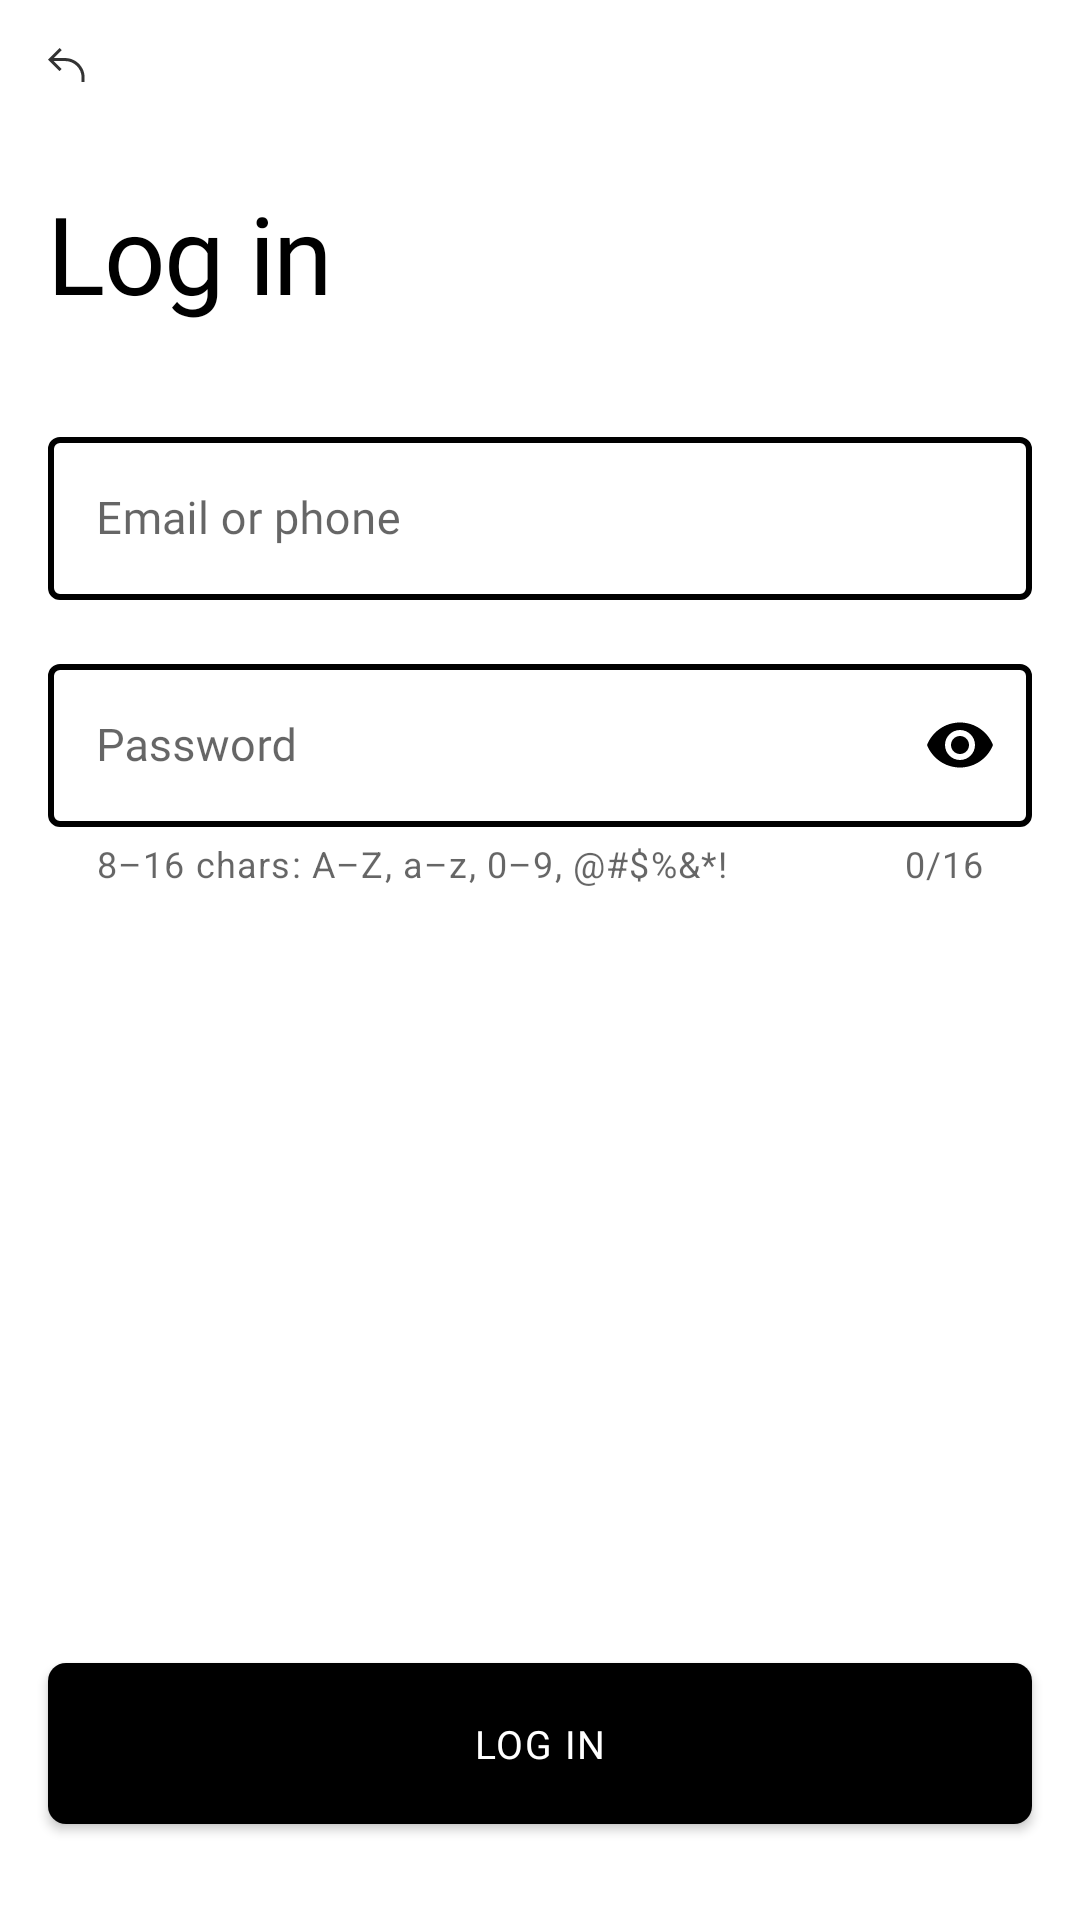

Icons on this 1080 x 1920 Android screen, each with the point to tap as [x,y]:
arrow back: [66,65]
